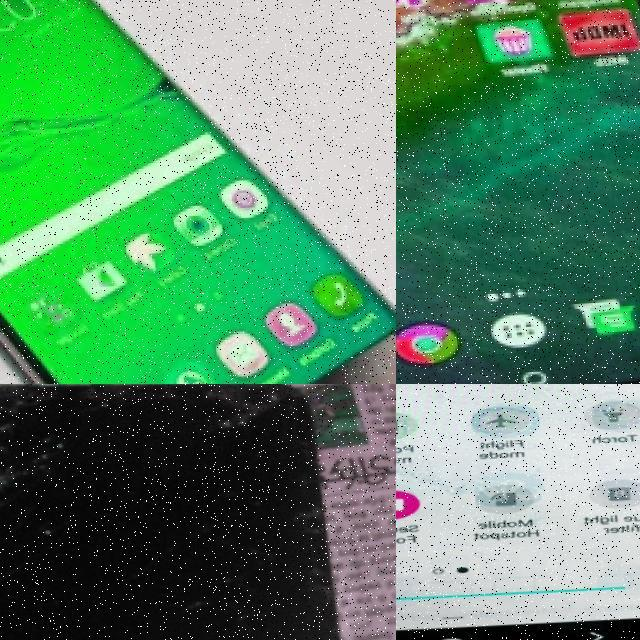screen crack: (183, 384, 307, 458), (0, 441, 74, 515)
